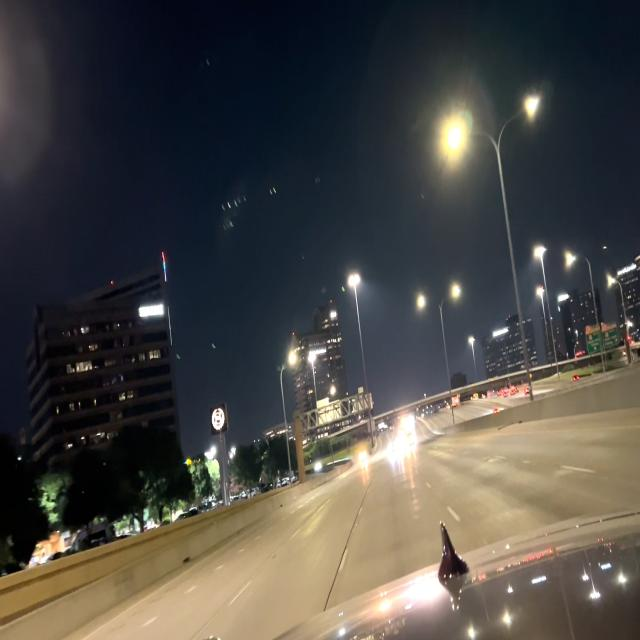back-of-sign: (316, 396, 342, 425), (350, 386, 374, 415)
